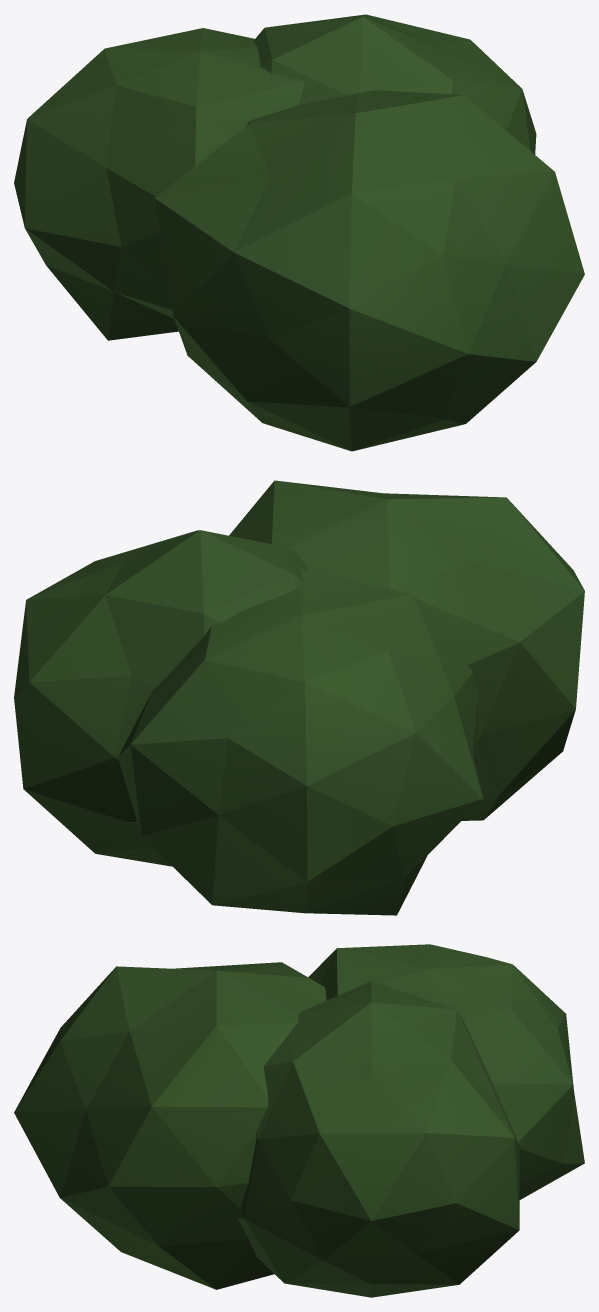
The model's file is veg_hack_1.glb.
3 renders of one model, top to bottom at view 1: azimuth 30°, elevation 25°; view 2: azimuth 150°, elevation 25°; view 3: azimuth 270°, elevation 25°, orthographic. The views are drawn at different scales.
Visible parts, largest first — view 1: geometry_0; view 2: geometry_0; view 3: geometry_0.
Boxes of the visible parts, left/top/right/bottom form: geometry_0: left=14, top=14, right=584, bottom=451; geometry_0: left=14, top=480, right=584, bottom=915; geometry_0: left=14, top=944, right=584, bottom=1297.
Size of the model in its own units: 1.52 by 1 by 1.75.
